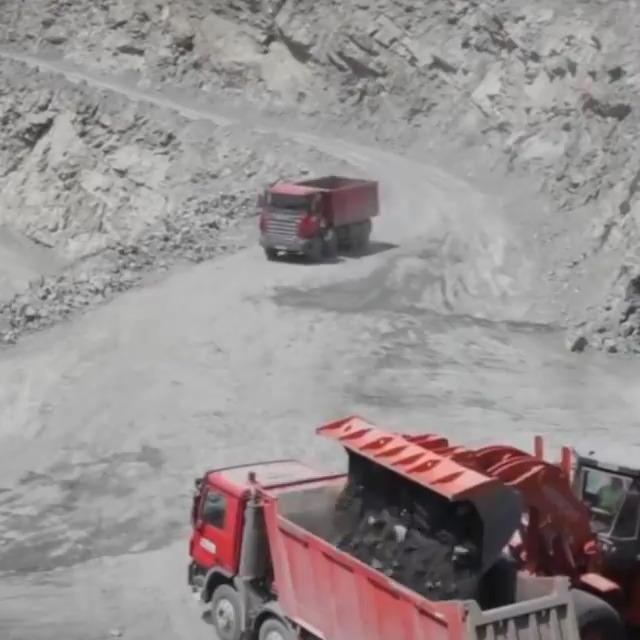dump truck: (187, 455, 588, 640), (256, 167, 380, 262)
wheel loader: (313, 413, 640, 640)
